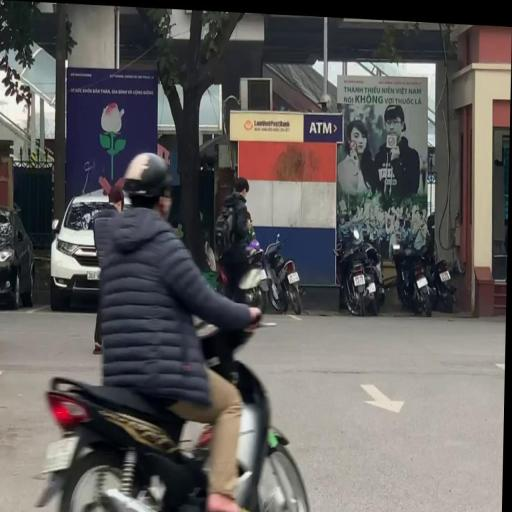bike: (42, 148, 320, 512)
numberplate: (42, 432, 82, 476), (354, 269, 368, 283), (288, 268, 301, 282), (417, 270, 429, 285), (440, 264, 452, 278)
with helmet: (125, 150, 175, 204)
